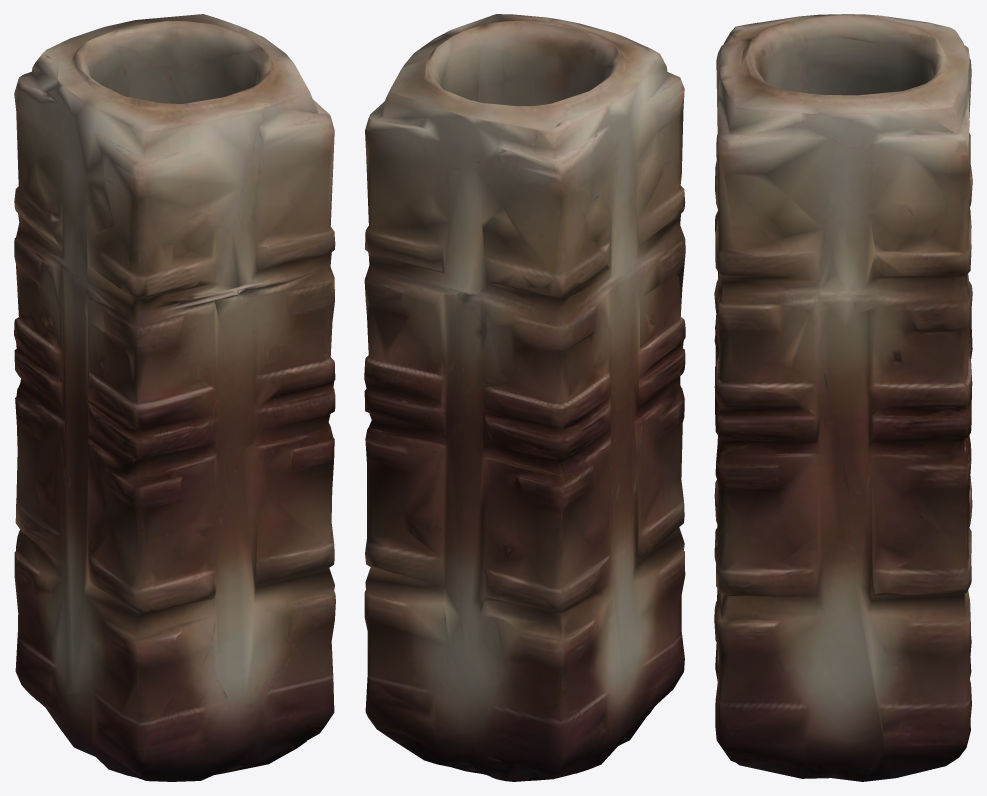
Rendered from song-archaic-overview.glb.
3 renders of one model, left to right at view 1: azimuth 30°, elevation 25°; view 2: azimuth 150°, elevation 25°; view 3: azimuth 270°, elevation 25°, orthographic.
Visible parts, largest first — view 1: node_0; view 2: node_0; view 3: node_0.
Boxes of the visible parts, bbox=[...] form: node_0: bbox=[14, 14, 335, 781]; node_0: bbox=[364, 14, 685, 781]; node_0: bbox=[714, 14, 972, 781].
Bounding box in the file's own units: 0.3702 × 1.15 × 0.3922.
1 material, 1 textured.
